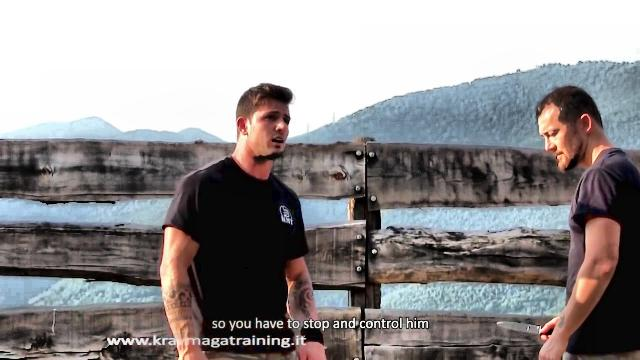knife: (490, 317, 558, 343)
